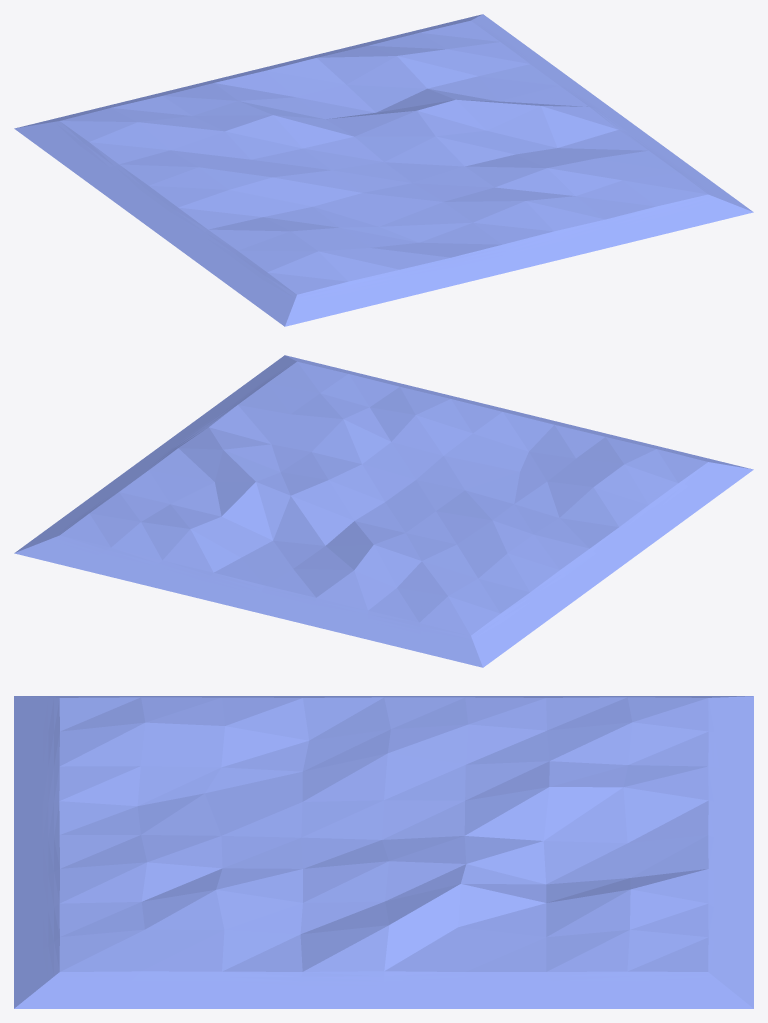
3 views of the same model, one above another, from view 1: azimuth 30°, elevation 25°; view 2: azimuth 150°, elevation 25°; view 3: azimuth 270°, elevation 25° (orthographic). The views are drawn at different scales.
Parts seen in each view (by area): view 1: Cube.019; view 2: Cube.019; view 3: Cube.019.
Boxes of the visible parts, x1,y1,x2,y2 form: Cube.019: (14,14,753,326); Cube.019: (14,355,753,667); Cube.019: (14,696,753,1008).
Size of the model in its own units: 97.82 by 97.82 by 5.14.
